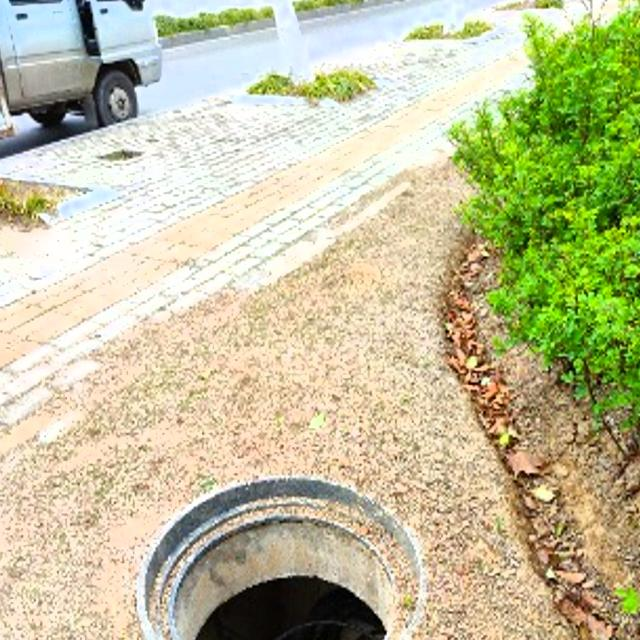lose: (136, 473, 424, 640)
